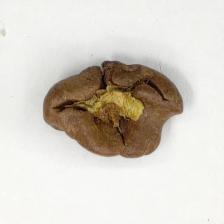NG: (42, 58, 187, 160)
